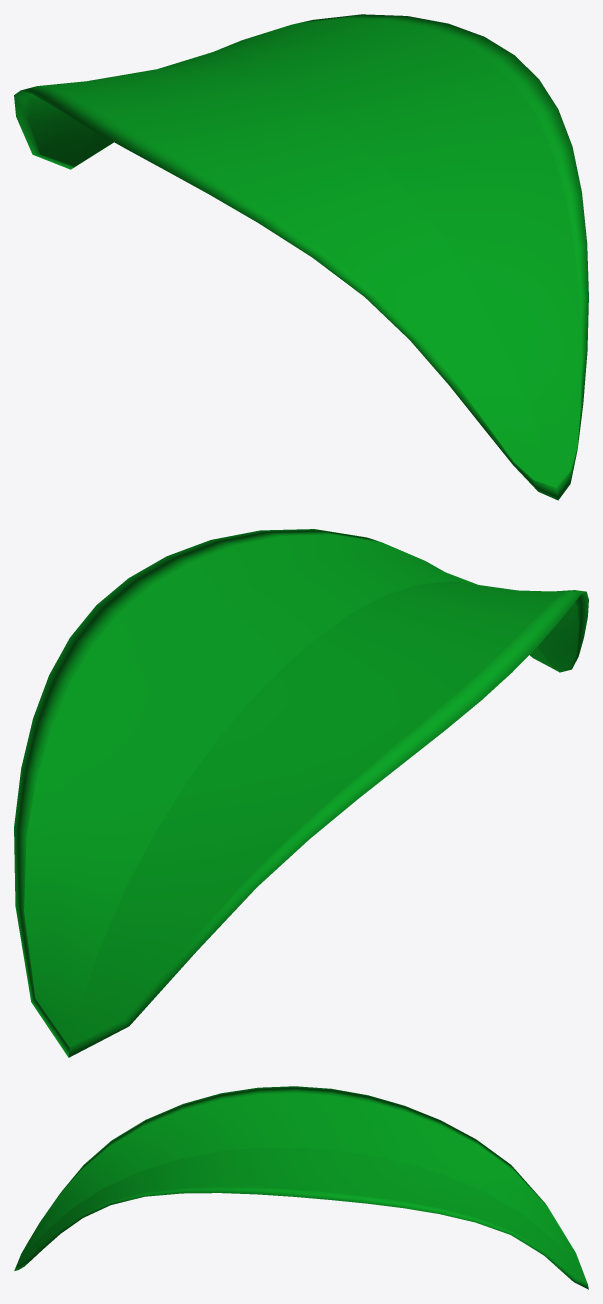
File: PalmPaper2.fbx
3 renders of one model, top to bottom at view 1: azimuth 30°, elevation 25°; view 2: azimuth 150°, elevation 25°; view 3: azimuth 270°, elevation 25°, orthographic. The views are drawn at different scales.
Visible parts, largest first — view 1: PalmPaper2; view 2: PalmPaper2; view 3: PalmPaper2.
Boxes of the visible parts, left/top/right/bottom form: PalmPaper2: left=14, top=14, right=588, bottom=500; PalmPaper2: left=14, top=529, right=588, bottom=1057; PalmPaper2: left=14, top=1086, right=588, bottom=1289.
Bounding box in the file's own units: 0.7776 × 1.7 × 0.4829.
